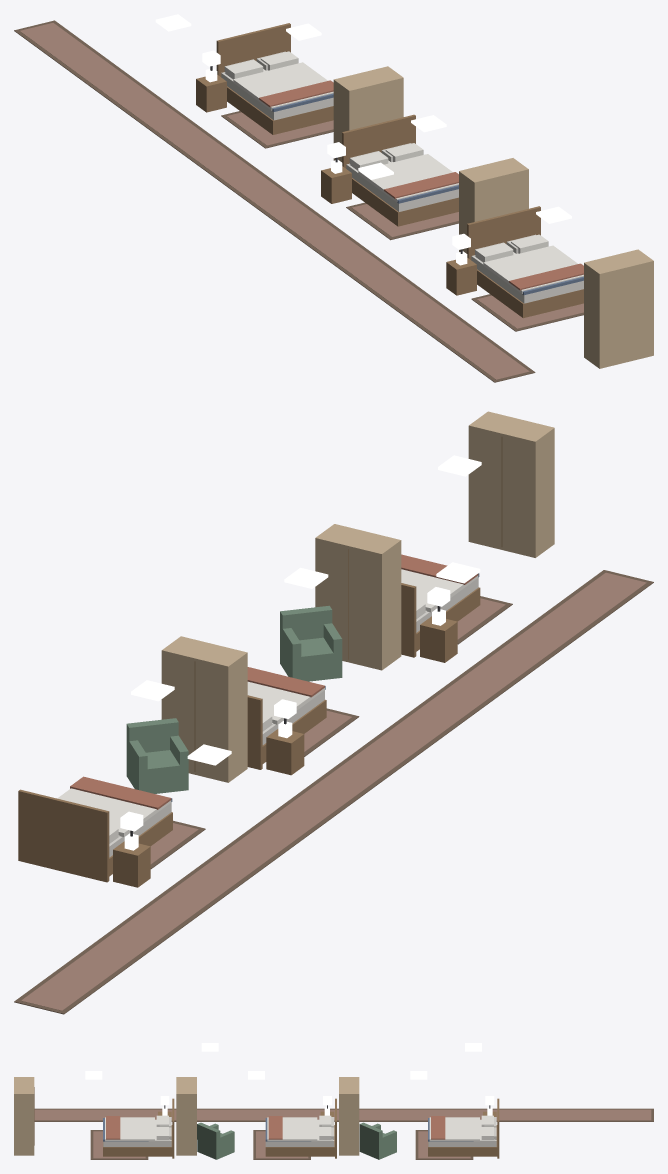
Rendered from fine-s1.glb.
3 views of the same model, one above another, from view 1: azimuth 30°, elevation 25°; view 2: azimuth 150°, elevation 25°; view 3: azimuth 270°, elevation 25° (orthographic). The views are drawn at different scales.
Visible parts, largest first — view 1: soft-s1, dresser.002, bed-frame.000, bed-frame.002, bed-frame.001, dresser.000, dresser.001, nightstand.000, nightstand.001, nightstand.002; view 2: soft-s1, dresser.002, dresser.001, dresser.000, bed-frame.000, lounge-chair.001, lounge-chair.000, bed-frame.001, bed-frame.002, nightstand.001, nightstand.000, nightstand.002; view 3: soft-s1, dresser.000, dresser.001, dresser.002, bed-frame.001, bed-frame.000, bed-frame.002, lounge-chair.000, lounge-chair.001.
Part boxes in pixels (x1,y1,x2,y2): soft-s1: [14, 20, 583, 382]; dresser.002: [584, 249, 653, 368]; bed-frame.000: [216, 23, 333, 134]; bed-frame.002: [467, 206, 583, 318]; bed-frame.001: [342, 114, 458, 226]; dresser.000: [333, 66, 403, 161]; dresser.001: [459, 158, 528, 253]; nightstand.000: [196, 68, 226, 112]; nightstand.001: [321, 160, 351, 203]; nightstand.002: [446, 251, 476, 295]; soft-s1: [14, 554, 653, 1014]; dresser.002: [468, 411, 554, 557]; dresser.001: [315, 524, 401, 670]; dresser.000: [161, 636, 247, 782]; bed-frame.000: [18, 789, 172, 882]; lounge-chair.001: [280, 605, 342, 681]; lounge-chair.000: [126, 718, 188, 793]; bed-frame.001: [247, 686, 326, 769]; bed-frame.002: [401, 573, 480, 657]; nightstand.001: [266, 721, 304, 775]; nightstand.000: [113, 833, 150, 887]; nightstand.002: [420, 608, 457, 662]; soft-s1: [34, 1096, 653, 1159]; dresser.000: [339, 1077, 359, 1155]; dresser.001: [176, 1077, 196, 1155]; dresser.002: [14, 1077, 34, 1155]; bed-frame.001: [265, 1098, 336, 1158]; bed-frame.000: [428, 1098, 499, 1158]; bed-frame.002: [103, 1098, 174, 1158]; lounge-chair.000: [359, 1122, 396, 1159]; lounge-chair.001: [197, 1122, 234, 1159].
Bounding box in the file's own units: 3.55 × 2.24 × 18.84.
